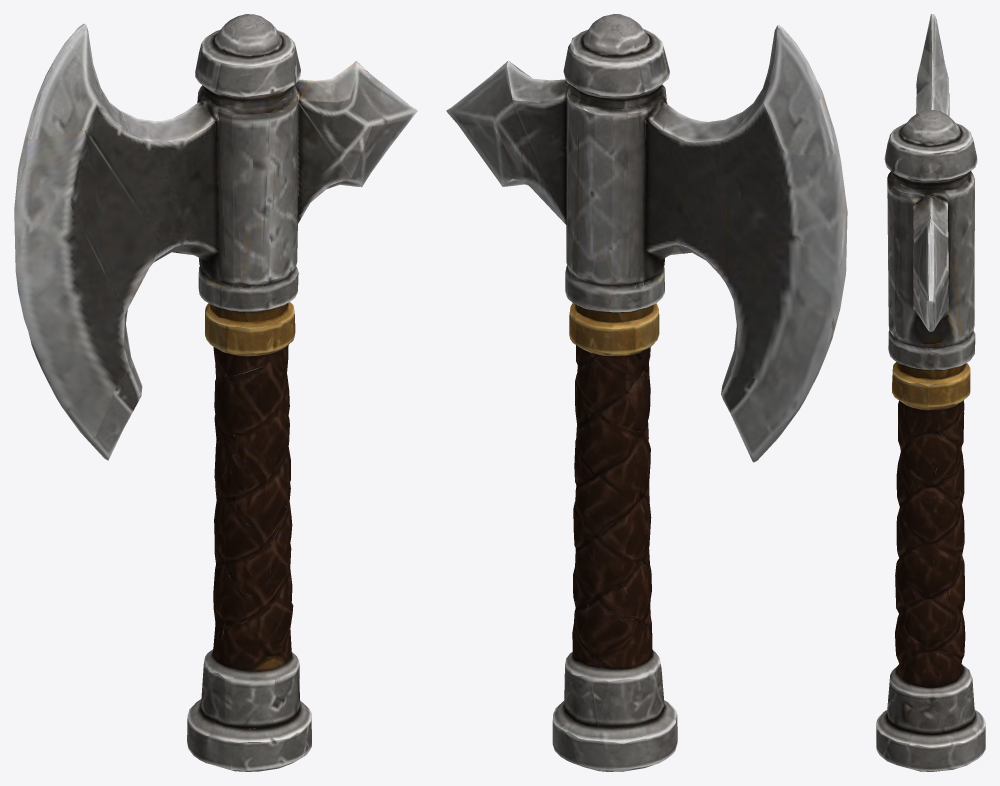
The model's file is frostbeard_axe.glb.
The picture shows the model from 3 angles, left to right: view 1: azimuth 30°, elevation 25°; view 2: azimuth 150°, elevation 25°; view 3: azimuth 270°, elevation 25°; orthographic projection. The views are drawn at different scales.
Size of the model in its own units: 0.6373 by 1.16 by 0.1719.
Materials: 1 (1 with a texture image).
